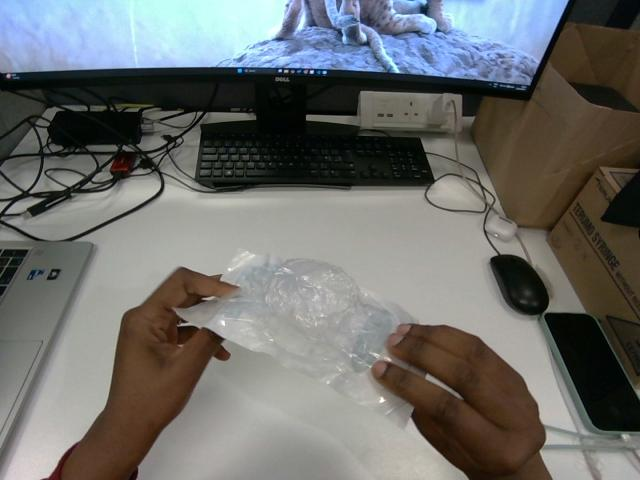gallipot: (176, 251, 413, 423)
